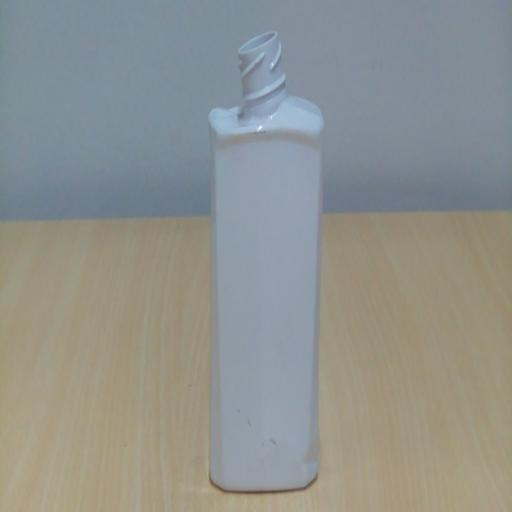Bad: (197, 14, 339, 505)
